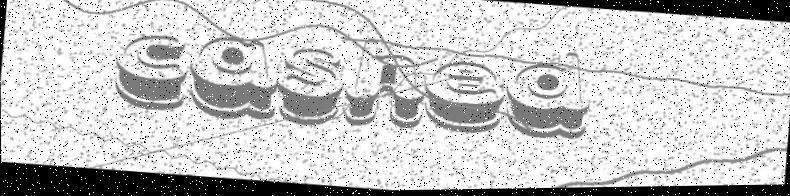a: (186, 32, 281, 124)
c: (110, 30, 191, 114)
d: (502, 49, 595, 144)
e: (420, 58, 508, 139)
h: (343, 36, 430, 133)
s: (274, 44, 348, 131)
